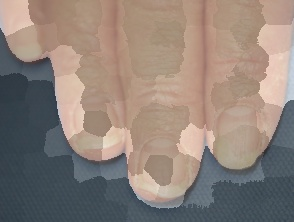Nail_psoriasis: (130, 142, 212, 213), (205, 124, 267, 176), (67, 119, 127, 158)
